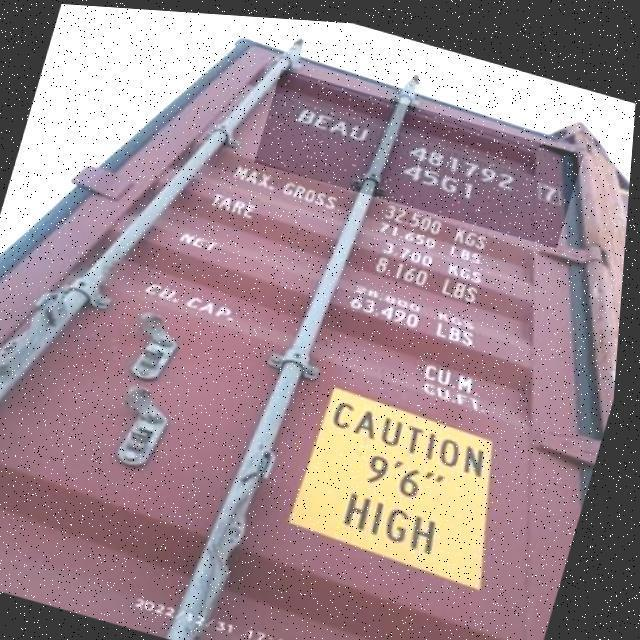container_number_h: (252, 64, 589, 241)
